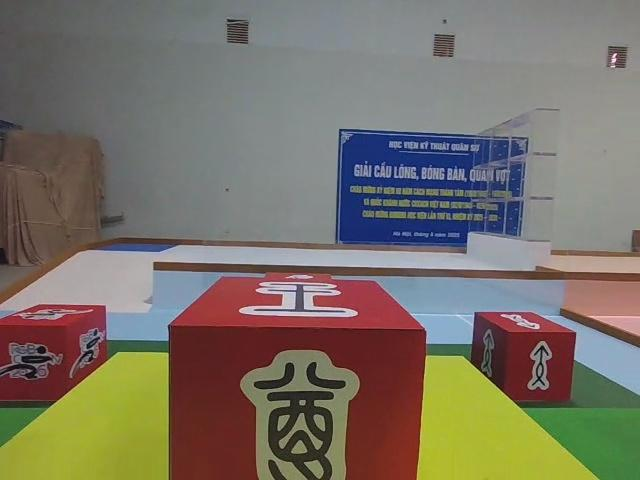R1: (0, 302, 106, 401)
R2 Fake: (165, 275, 426, 480)
R2 Real: (473, 311, 576, 417)
